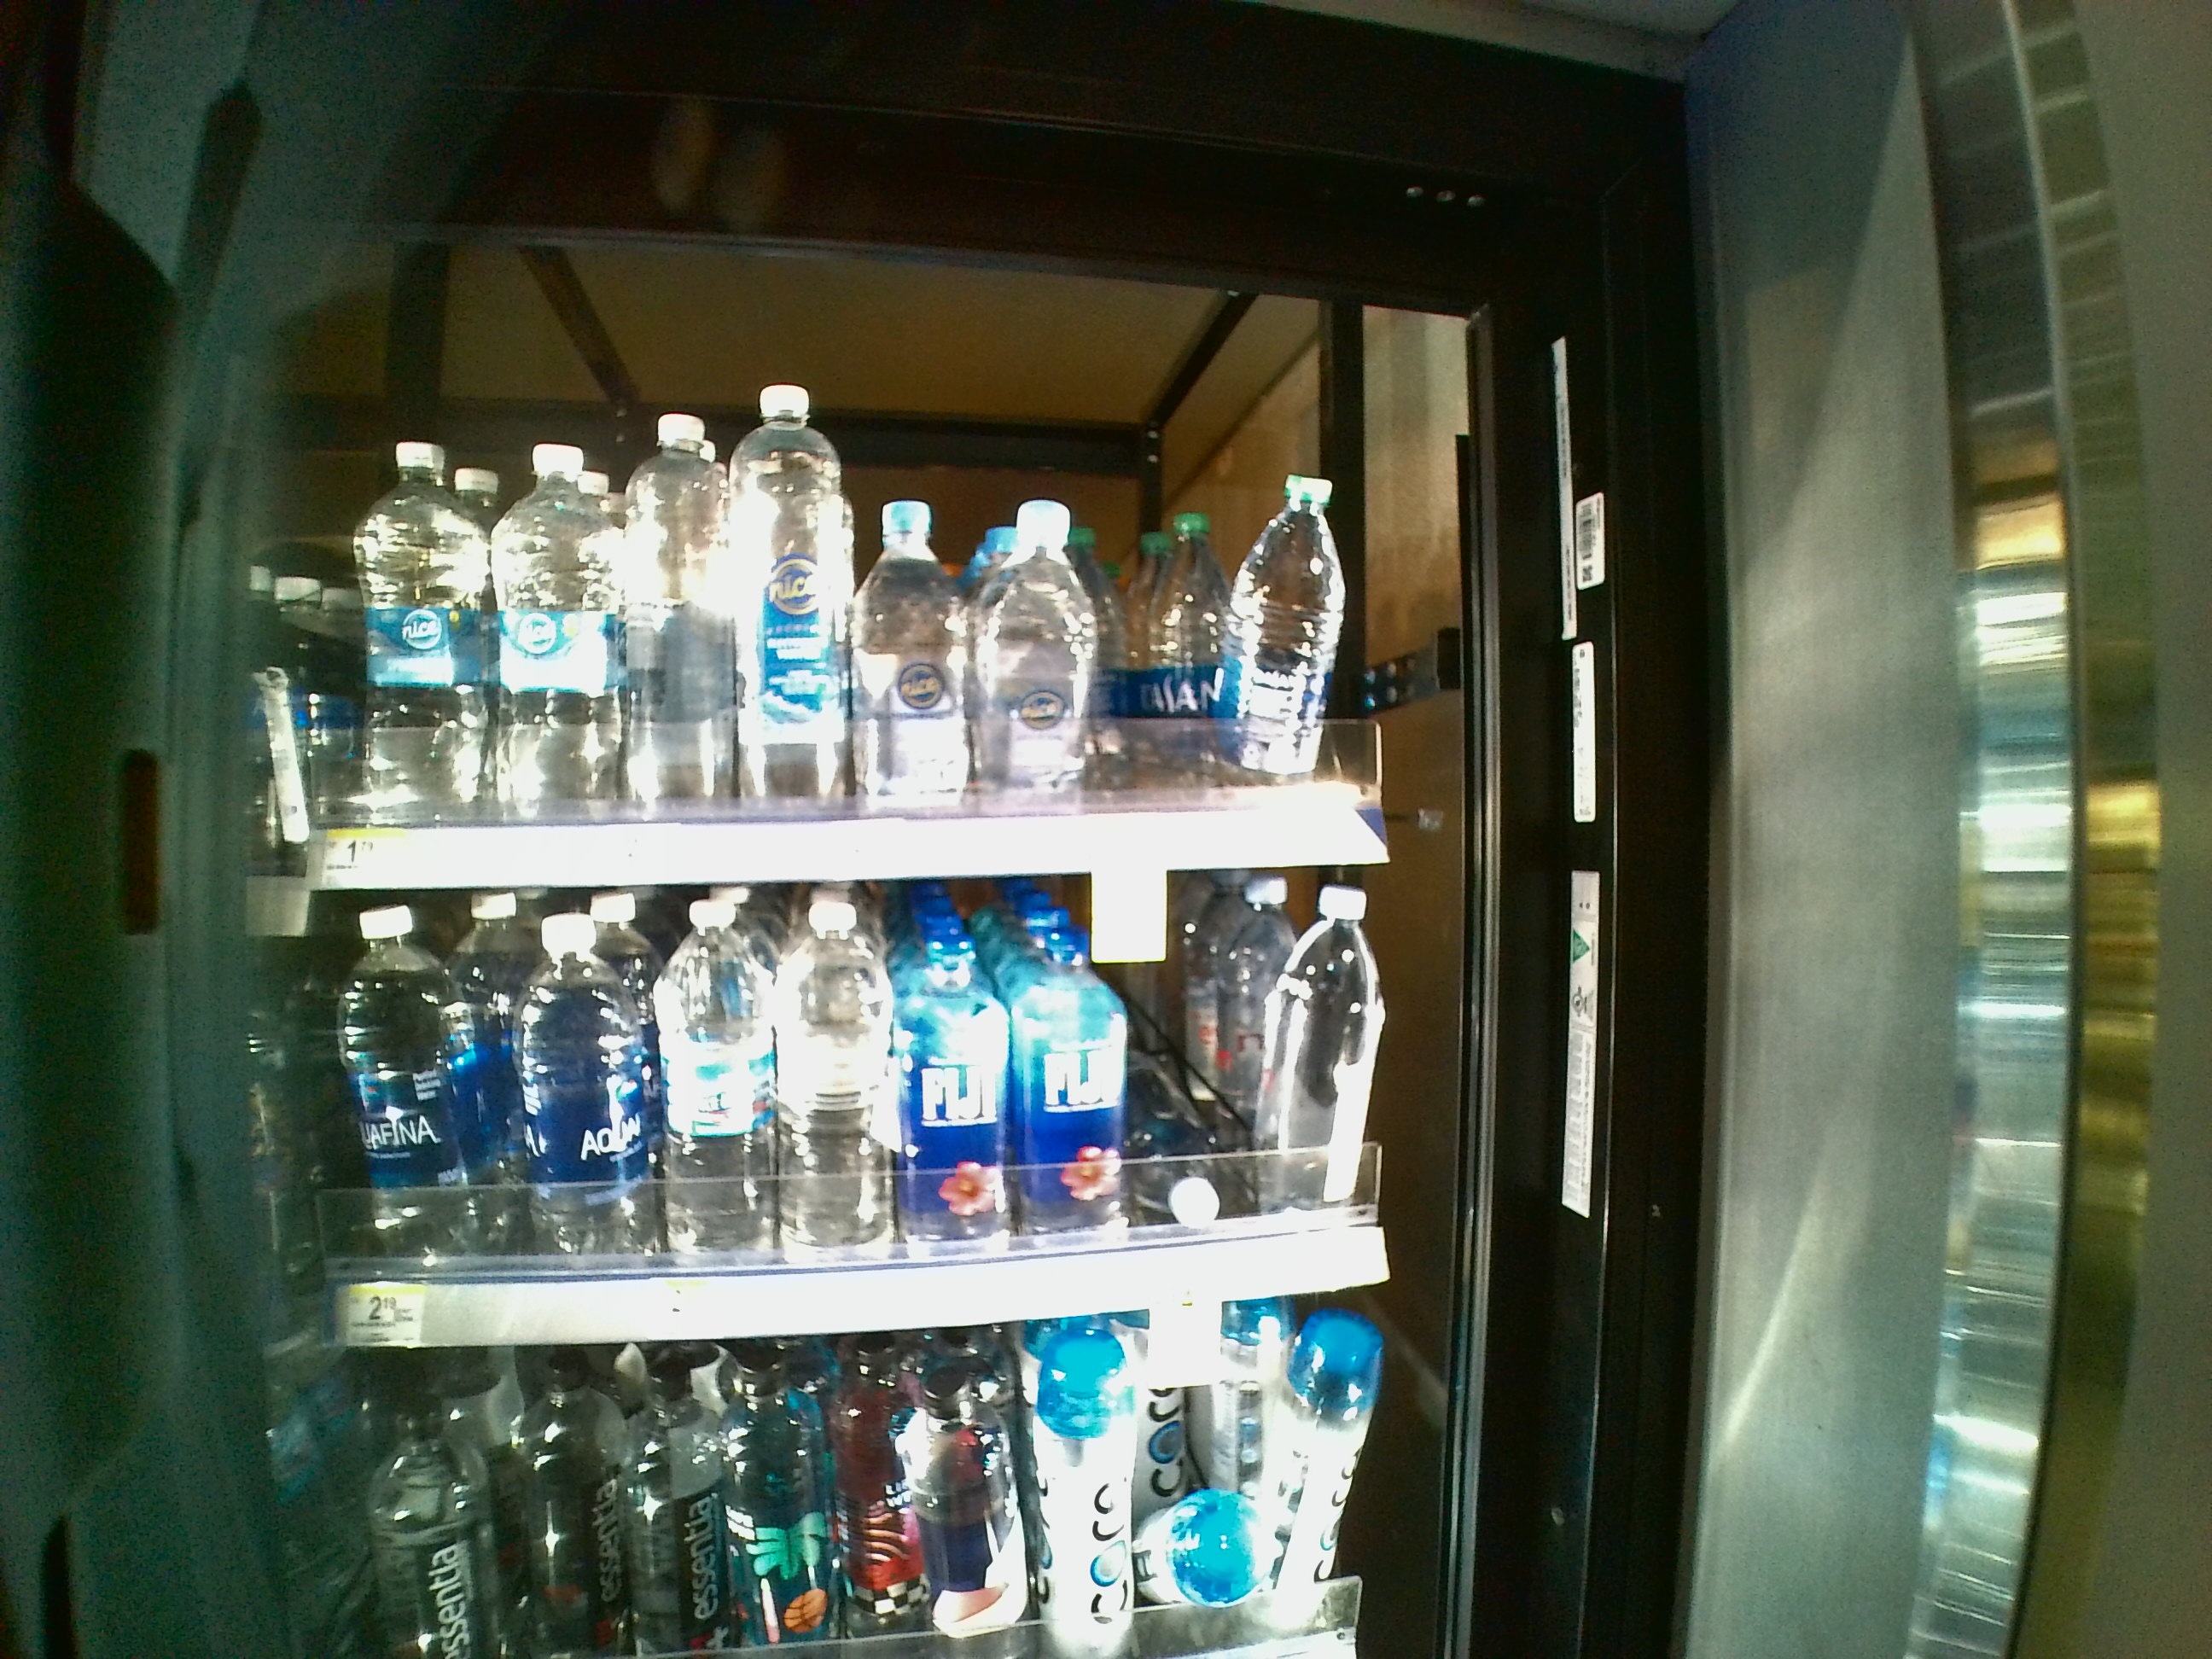Shelf: (204, 336, 1416, 887), (200, 882, 1430, 1354)
